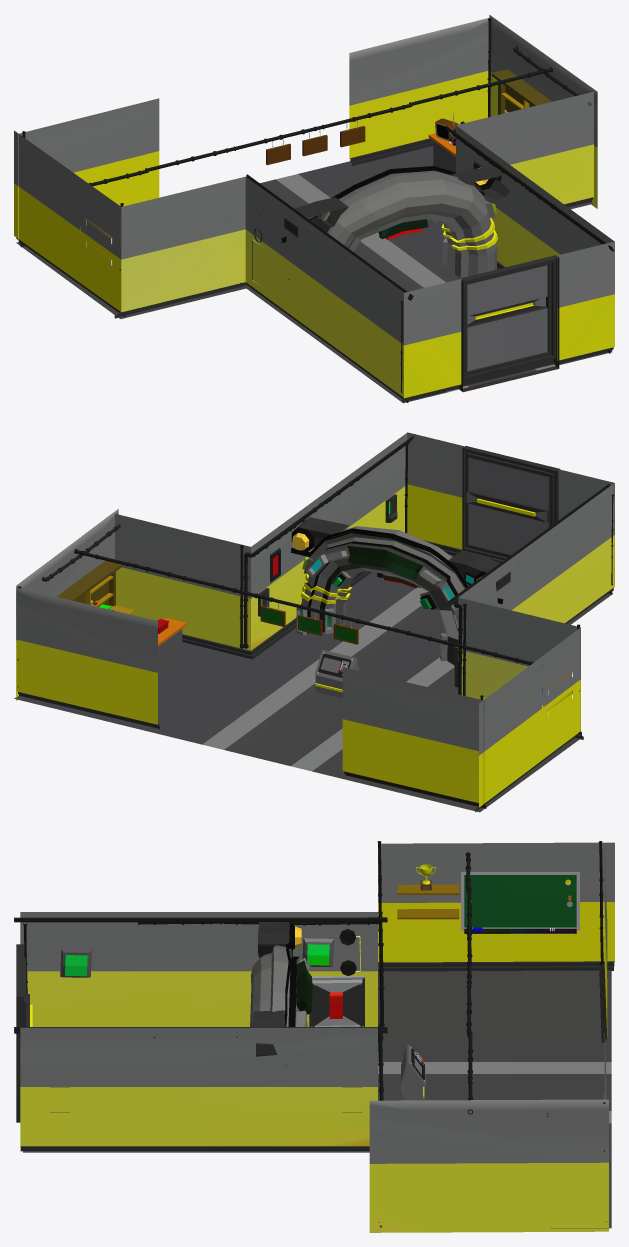
File: MenuArena.fbx
3 views of the same model, one above another, from view 1: azimuth 30°, elevation 25°; view 2: azimuth 150°, elevation 25°; view 3: azimuth 270°, elevation 25° (orthographic). The views are drawn at different scales.
Parts seen in each view (by area): view 1: parede, maquina, portao, piso, Estante, bancada; view 2: parede, piso, maquina, portao, Estante, Painel, bancada; view 3: parede, piso, QuadroNegro, maquina, portao, Painel, Estante.002, Estante.001.
Boxes of the visible parts, x1,y1,x2,y2 form: parede: (14, 15, 614, 402); maquina: (281, 165, 509, 280); portao: (459, 255, 559, 392); piso: (16, 146, 612, 403); Estante: (491, 69, 551, 114); bancada: (428, 133, 455, 172); parede: (16, 432, 614, 812); piso: (14, 554, 612, 812); maquina: (291, 517, 510, 665); portao: (461, 446, 560, 562); Estante: (56, 560, 133, 614); Painel: (315, 649, 358, 698); bancada: (158, 618, 186, 672); parede: (14, 841, 614, 1232); piso: (23, 970, 611, 1228); QuadroNegro: (461, 872, 579, 933); maquina: (250, 922, 312, 1067); portao: (16, 944, 32, 1122); Painel: (401, 1044, 425, 1100); Estante.002: (397, 909, 459, 919); Estante.001: (397, 884, 459, 894).
Size of the model in its own units: 1997 by 496 by 1916.
